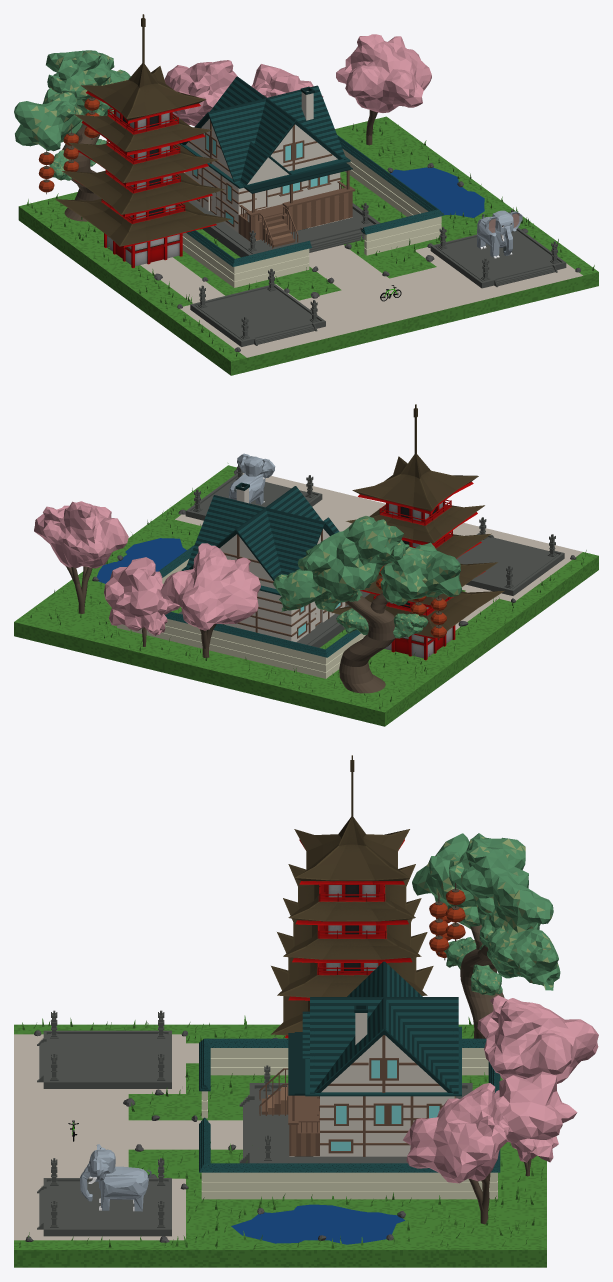
The picture shows the model from 3 angles, top to bottom: view 1: azimuth 30°, elevation 25°; view 2: azimuth 150°, elevation 25°; view 3: azimuth 270°, elevation 25°; orthographic projection. The views are drawn at different scales.
Parts seen in each view (by area): view 1: Cube.005, Cube.793, ANIMAL_ELEFANTE; view 2: Cube.005, Cube.793, ANIMAL_ELEFANTE; view 3: Cube.005, Cube.793, ANIMAL_ELEFANTE.
Part boxes in pixels (<box>): Cube.005: <box>14,14,598,375</box>; Cube.793: <box>179,76,355,248</box>; ANIMAL_ELEFANTE: <box>477,210,522,258</box>; Cube.005: <box>14,404,598,726</box>; Cube.793: <box>181,482,347,641</box>; ANIMAL_ELEFANTE: <box>229,453,275,504</box>; Cube.005: <box>14,755,598,1267</box>; Cube.793: <box>259,961,461,1156</box>; ANIMAL_ELEFANTE: <box>80,1144,151,1211</box>.
Size of the model in its own units: 4528 by 2690 by 4389.
35 materials, 6 textured.
